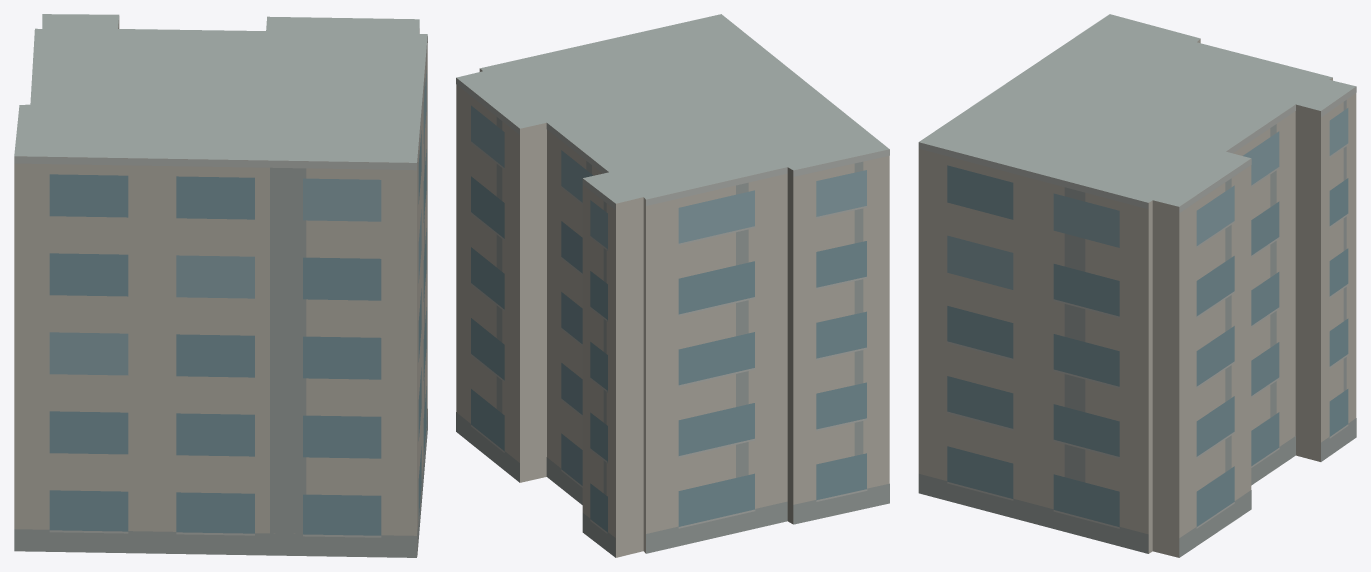
Rendered from survey-upis-32636486.glb.
3 renders of one model, left to right at view 1: azimuth 30°, elevation 25°; view 2: azimuth 150°, elevation 25°; view 3: azimuth 270°, elevation 25°, orthographic. The views are drawn at different scales.
Visible parts, largest first — view 1: survey-upis-32636486.tmp; view 2: survey-upis-32636486.tmp; view 3: survey-upis-32636486.tmp.
Part boxes in pixels (left/top/right/bottom): survey-upis-32636486.tmp: left=14, top=14, right=427, bottom=557; survey-upis-32636486.tmp: left=456, top=14, right=889, bottom=557; survey-upis-32636486.tmp: left=918, top=14, right=1356, bottom=557.
Size of the model in its own units: 15.56 by 13.2 by 14.93.
